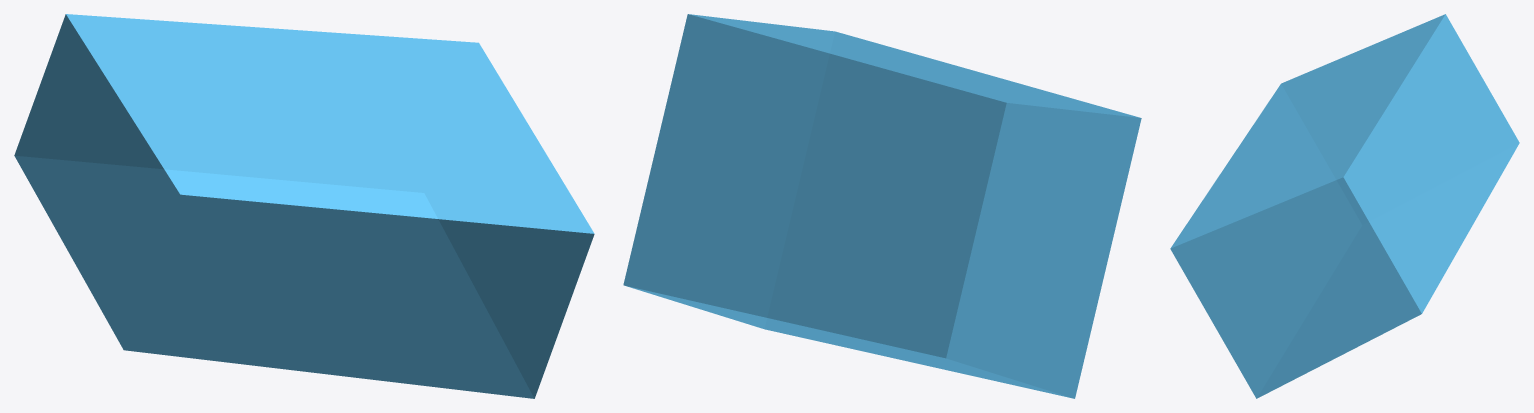
The model's file is Event_421127236_HErechit_10.fbx.
3 renders of one model, left to right at view 1: azimuth 30°, elevation 25°; view 2: azimuth 150°, elevation 25°; view 3: azimuth 270°, elevation 25°, orthographic. The views are drawn at different scales.
Parts seen in each view (by area): view 1: Model; view 2: Model; view 3: Model.
Part boxes in pixels (x1,y1,x2,y2): Model: [14, 14, 594, 398]; Model: [623, 14, 1141, 398]; Model: [1170, 14, 1519, 398].
Bounding box in the file's own units: 0.6245 × 0.6472 × 0.7689.
